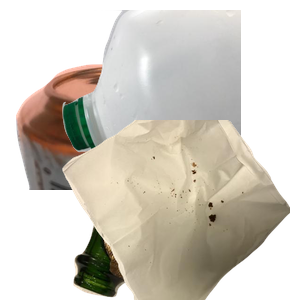glass: (71, 152, 260, 300)
metal: (13, 61, 240, 241)
plastic: (60, 10, 300, 190)
trash: (60, 120, 300, 300)
